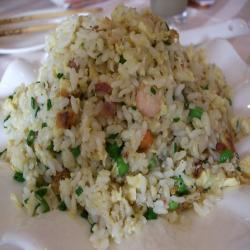rice: (53, 69, 205, 202)
